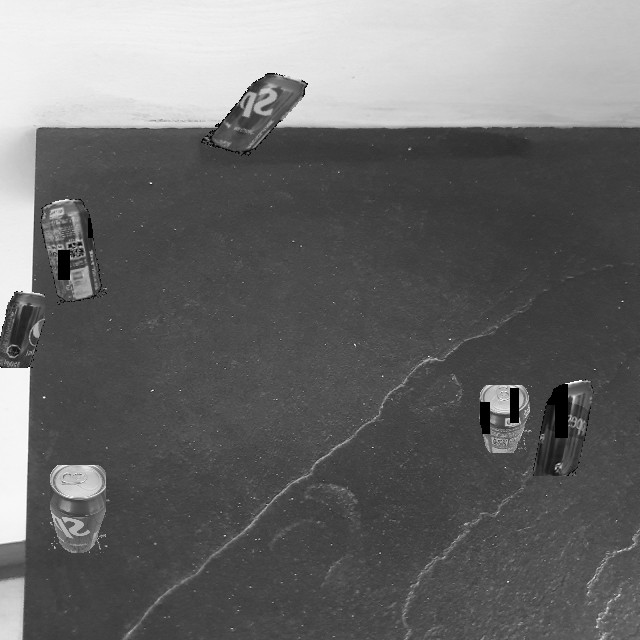pepsi: (0, 290, 45, 368)
schweppes: (533, 378, 595, 476)
sprite: (201, 50, 313, 176), (37, 196, 107, 305), (50, 465, 106, 553), (479, 385, 532, 453)
